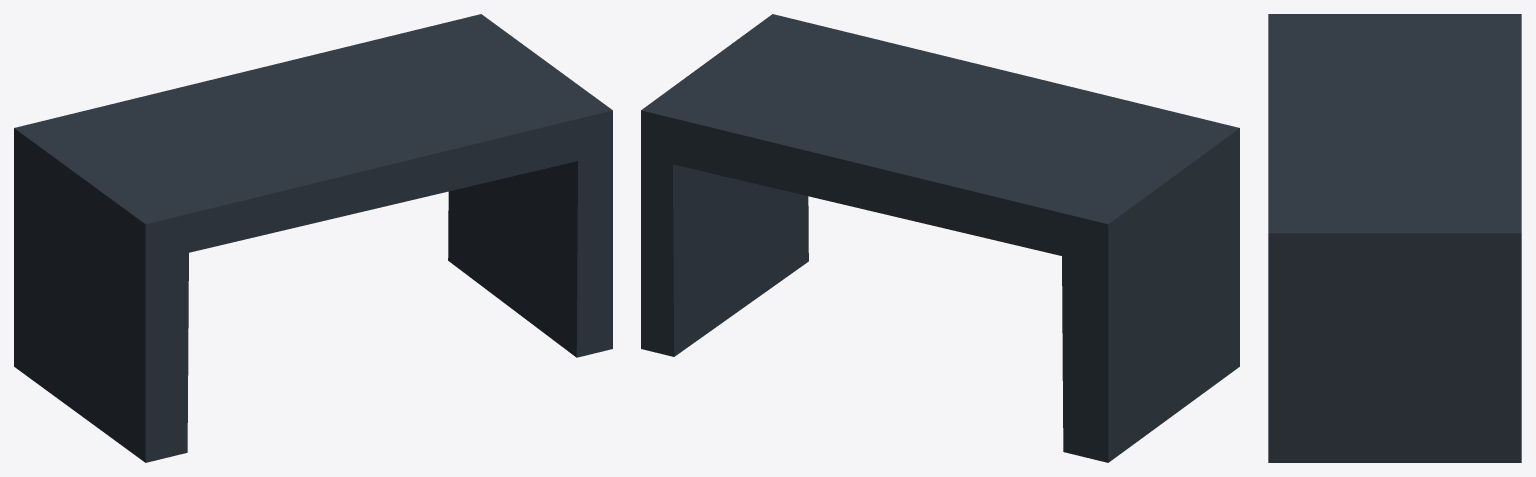
File: desk.gltf
3 renders of one model, left to right at view 1: azimuth 30°, elevation 25°; view 2: azimuth 150°, elevation 25°; view 3: azimuth 270°, elevation 25°, orthographic. The views are drawn at different scales.
Visible parts, largest first — view 1: table; view 2: table; view 3: table.
Part boxes in pixels (box(x1,y1,x2,y2)): table: box(14, 14, 612, 462); table: box(641, 14, 1239, 462); table: box(1268, 14, 1521, 462).
Size of the model in its own units: 8.71 by 4.25 by 4.25.
1 material, 1 textured.
